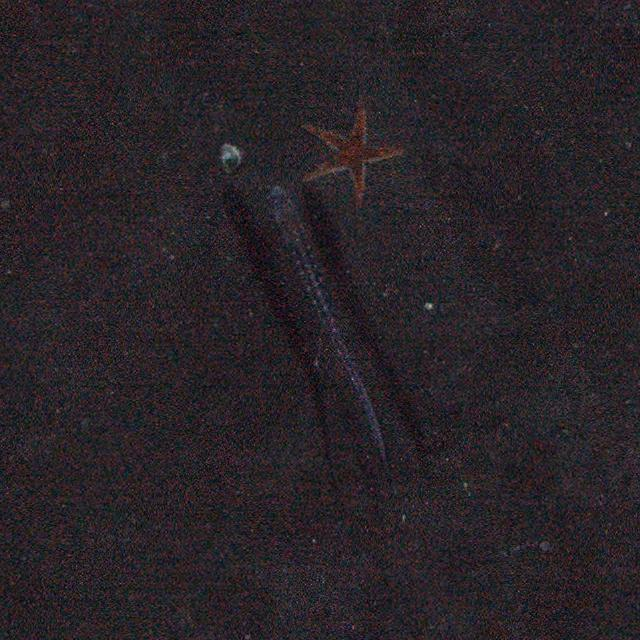roundfish: (259, 181, 402, 490)
